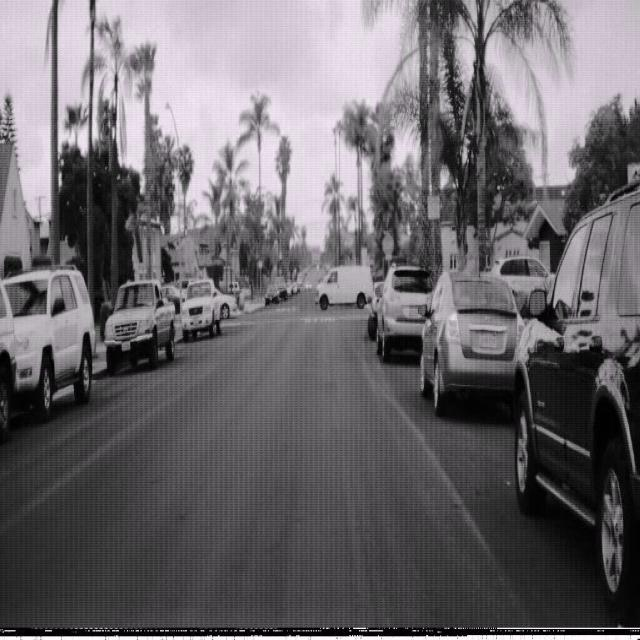stop_sign: (382, 232, 394, 256)
